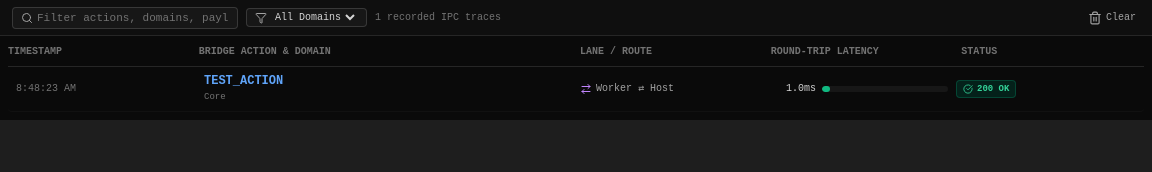
Test: Milestone 4: Multi-Lane Debugger & Storage Suite › 3. BridgeWaterfall Component › clears waterfall traces
The width and height of the screenshot is (1152, 172).
Expected: the text "TEST_ACTION" is shown, [204,74,283,88]
Click the button "Clear" at (1112, 18), box [1084,6,1140,30]
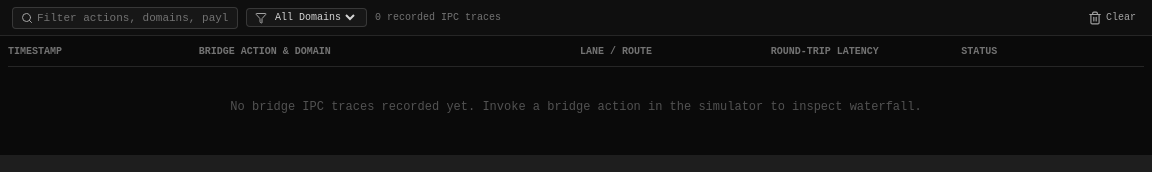
Now the text "No bridge IPC traces recorded yet" is shown, box [230,100,922,114]
